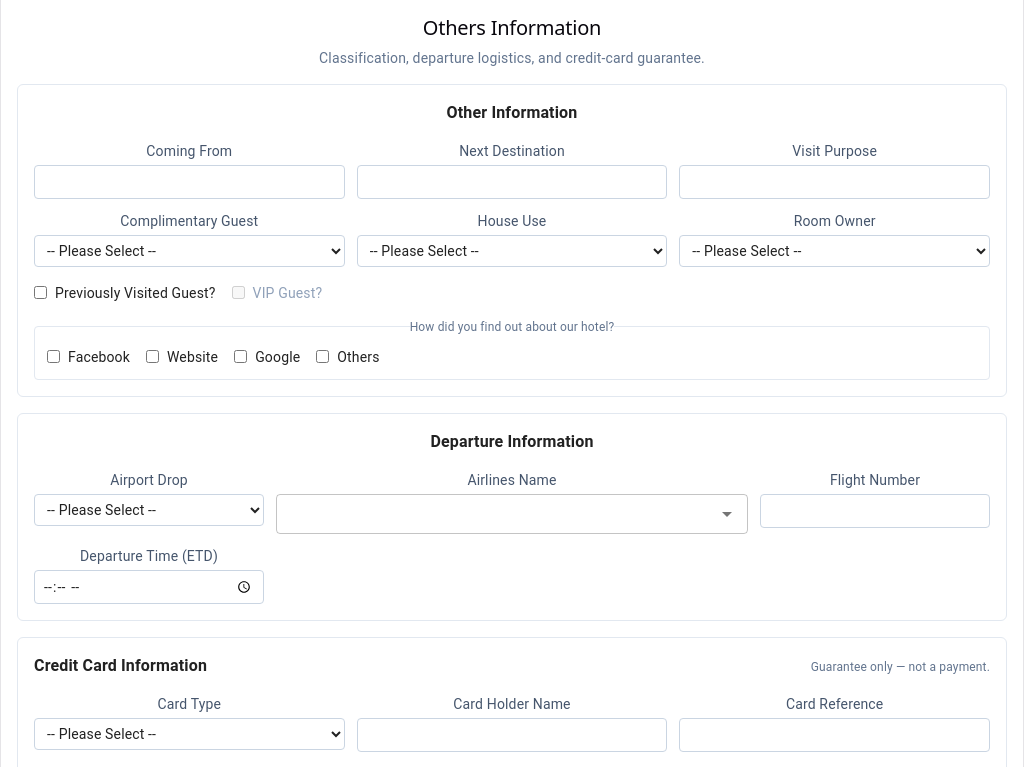
Test: OthersInformationTab — Section C (card) › tokenization failure surfaces a scrubbed error and keeps PAN input present
The image size is (1024, 767).
Bad Luhn number:
Select "Visa Card" in the dropdown with test id "card-type" at (189, 734), box [34,718,345,750]
(page scrolled)
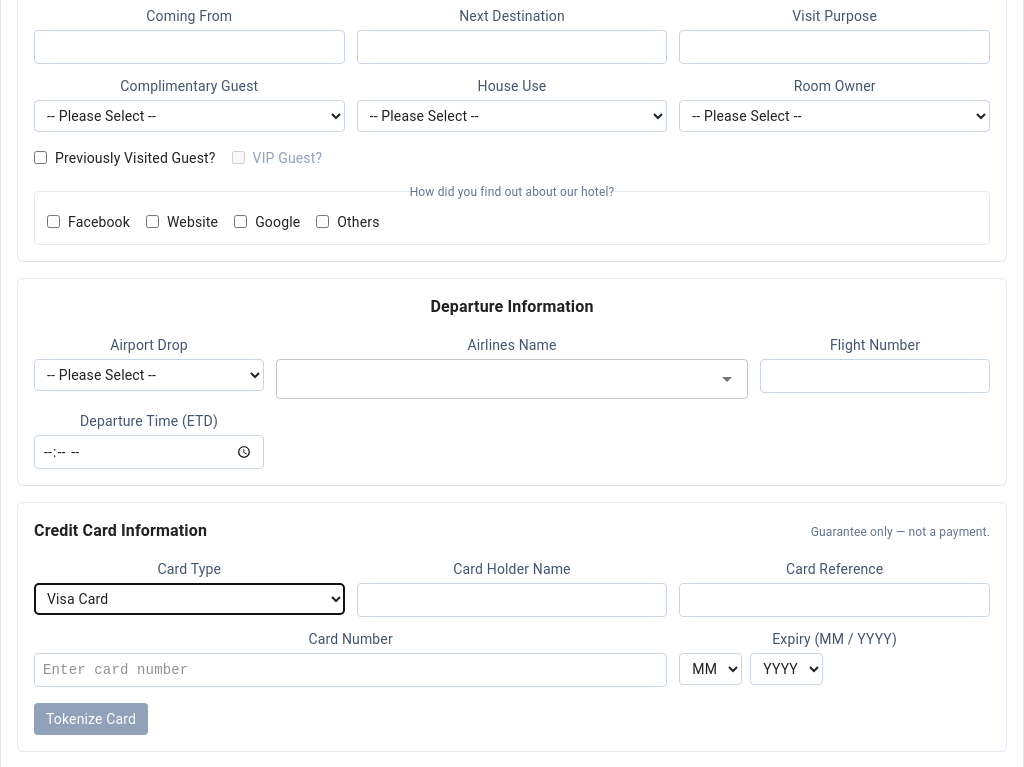
Type "4242424242424241" into the field with test id "card-number-input" at (351, 670), box [34,653,667,687]
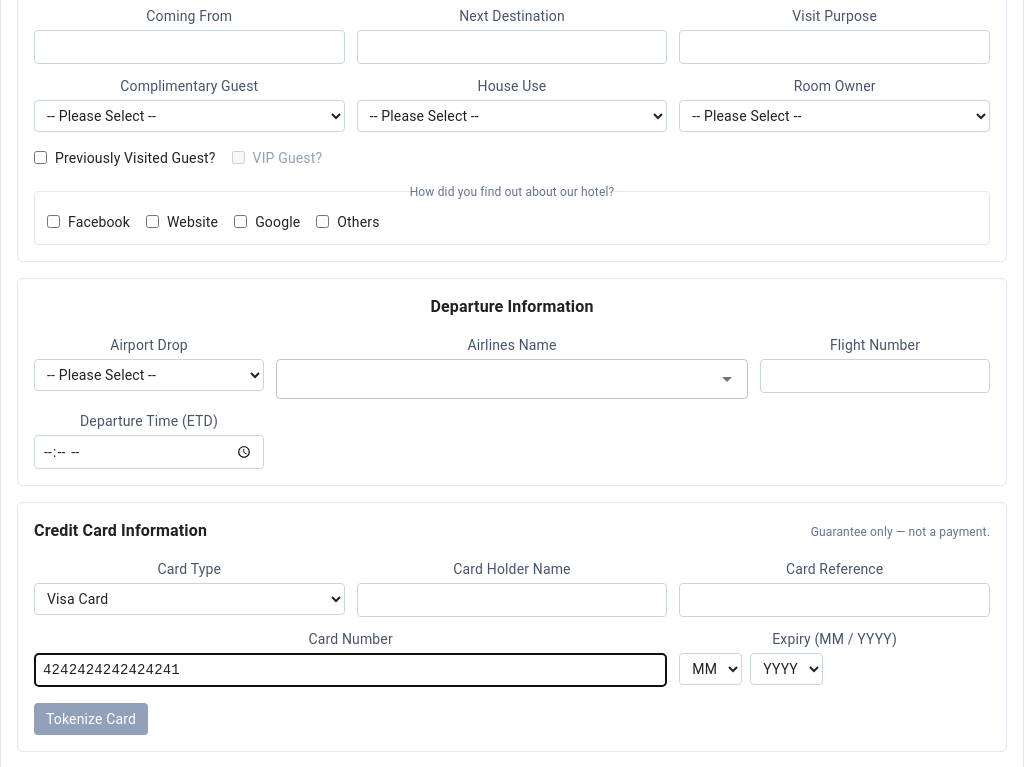
Select "12" in the dropdown with test id "expiry-month" at (711, 669), box [679,653,742,685]
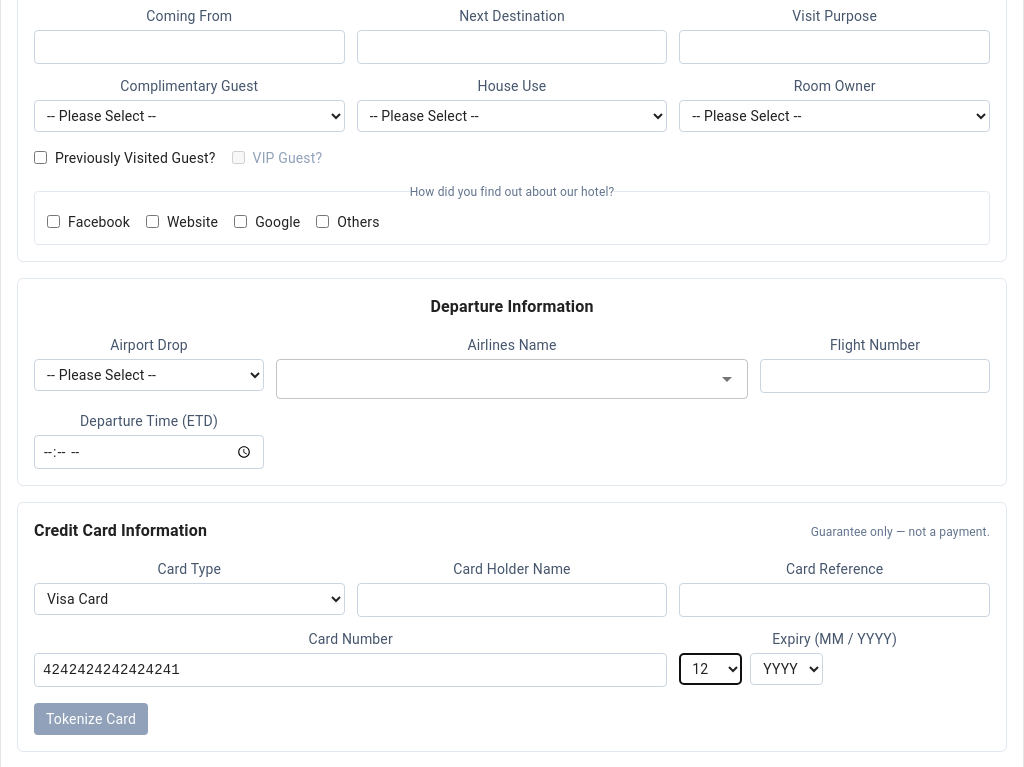
Select "2030" in the dropdown with test id "expiry-year" at (787, 669), box [750,653,823,685]
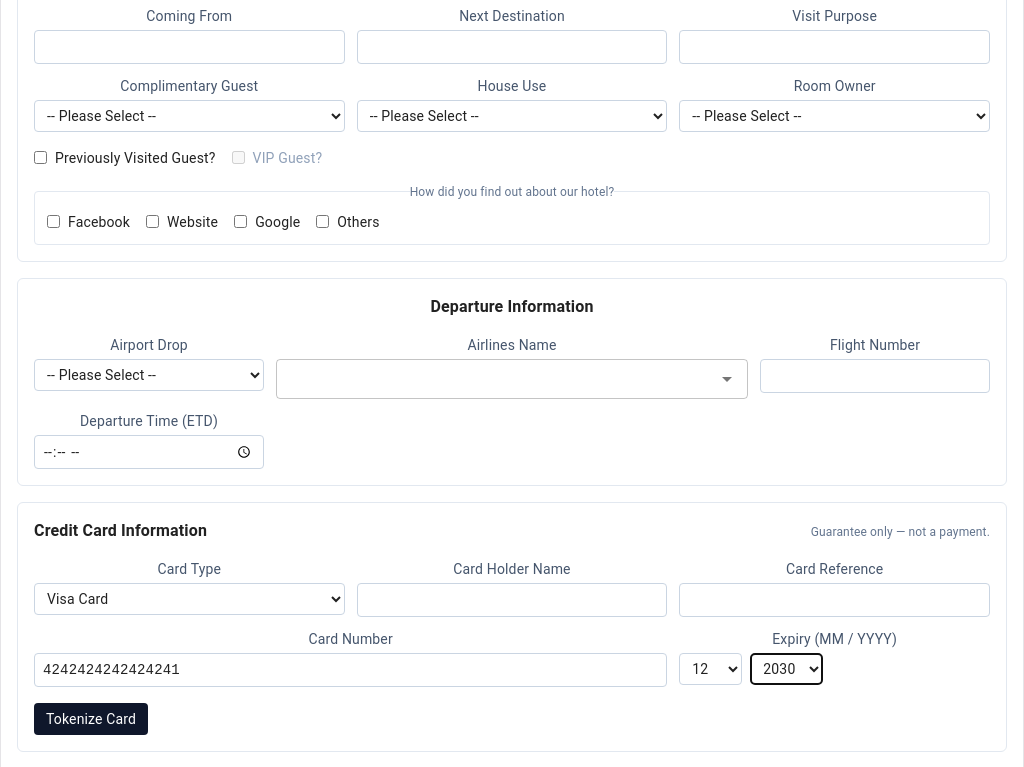
Click the button with test id "card-tokenize" at (91, 719), box [34,703,148,735]
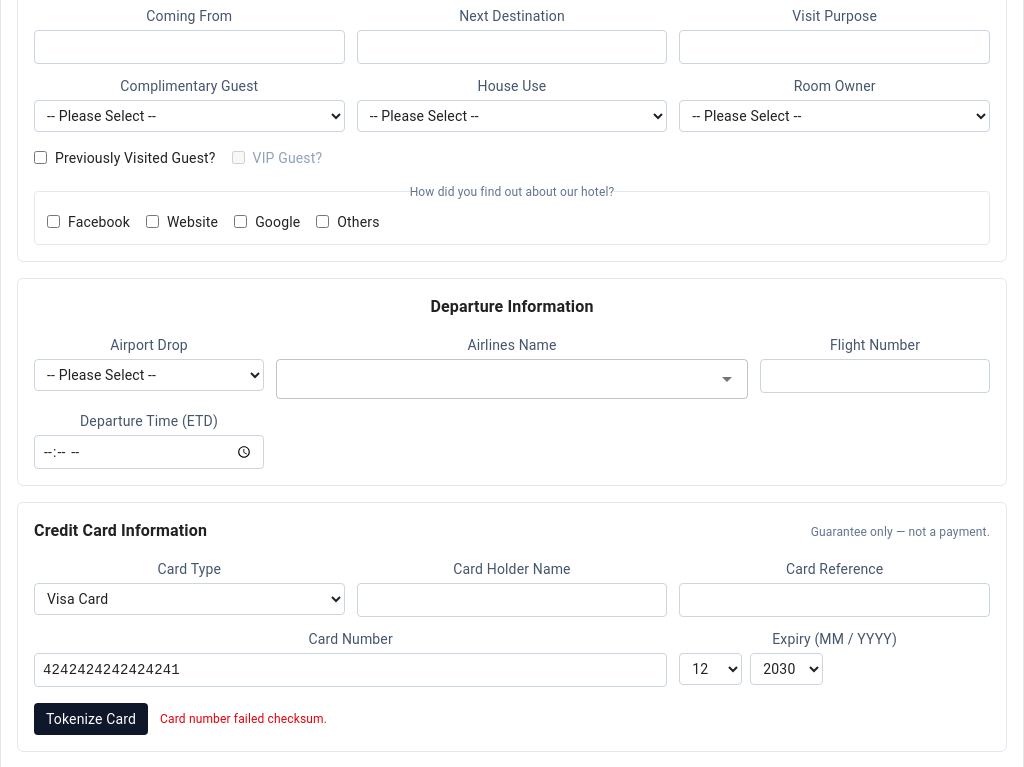
Expected: the text "Card number failed checksum." is shown, [160,711,327,727]
